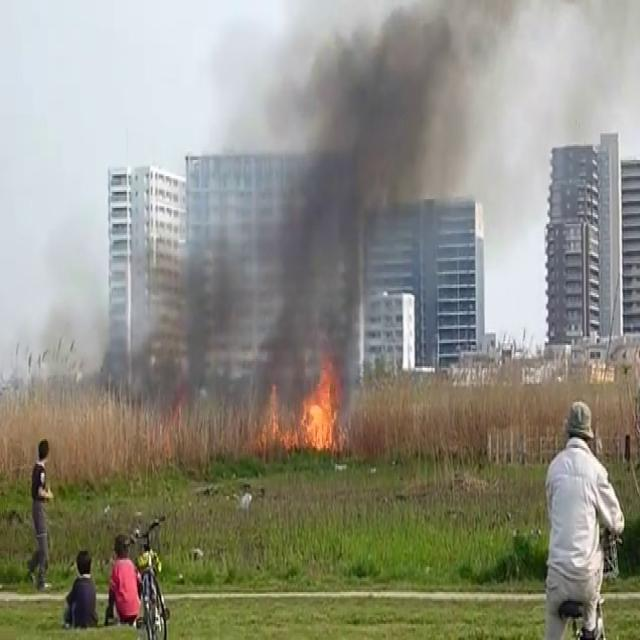Fire: (258, 358, 348, 460)
Smoke: (174, 0, 471, 414)
